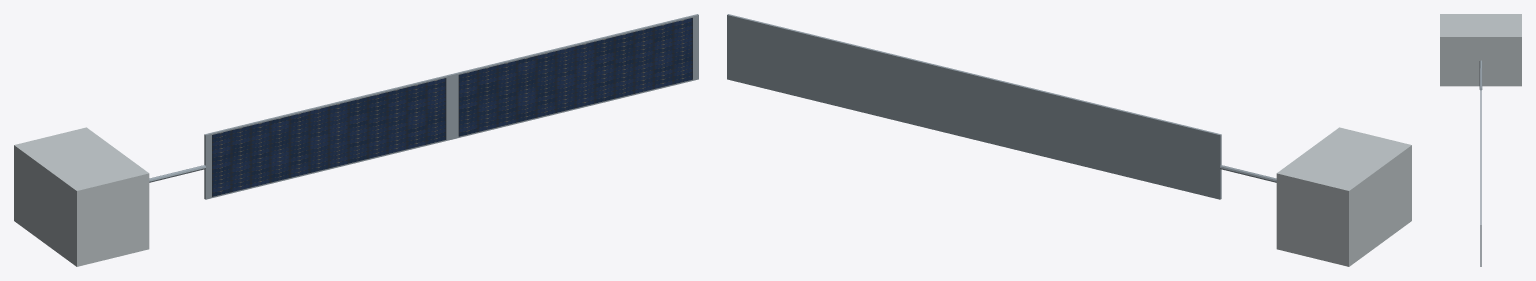
The model's file is ref-lm-t1tl-65974.glb.
The picture shows the model from 3 angles, left to right: view 1: azimuth 30°, elevation 25°; view 2: azimuth 150°, elevation 25°; view 3: azimuth 270°, elevation 25°; orthographic projection. The views are drawn at different scales.
Visible parts, largest first — view 1: Photovoltaic laminates (×2), Spacecraft body, Array frame (×2); view 2: Array frame (×2), Spacecraft body; view 3: Spacecraft body, Array frame (×2), Solar array drive.
Part boxes in pixels (bbox=[...]): Photovoltaic laminates (×2): bbox=[212, 18, 692, 196]; Spacecraft body: bbox=[14, 127, 149, 266]; Array frame (×2): bbox=[204, 14, 698, 199]; Array frame (×2): bbox=[727, 14, 1221, 199]; Spacecraft body: bbox=[1276, 127, 1411, 266]; Spacecraft body: bbox=[1440, 14, 1521, 86]; Array frame (×2): bbox=[1480, 68, 1481, 266]; Solar array drive: bbox=[1479, 60, 1482, 89].
Size of the model in its own units: 3.6 by 0.4 by 0.6.
Materials: 3 (1 with a texture image).
